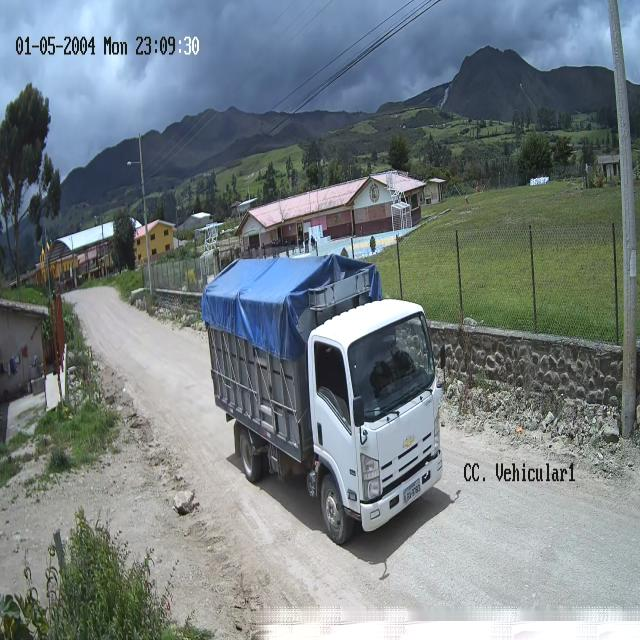TRUCK: (199, 255, 443, 544)
